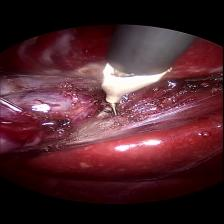Hook: (97, 58, 161, 118)
